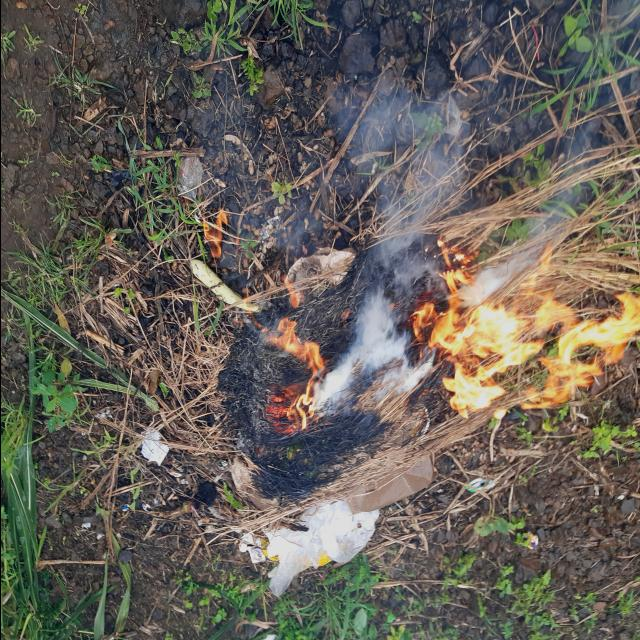firerotation: (408, 232, 640, 427), (258, 272, 334, 444), (201, 204, 229, 262)
